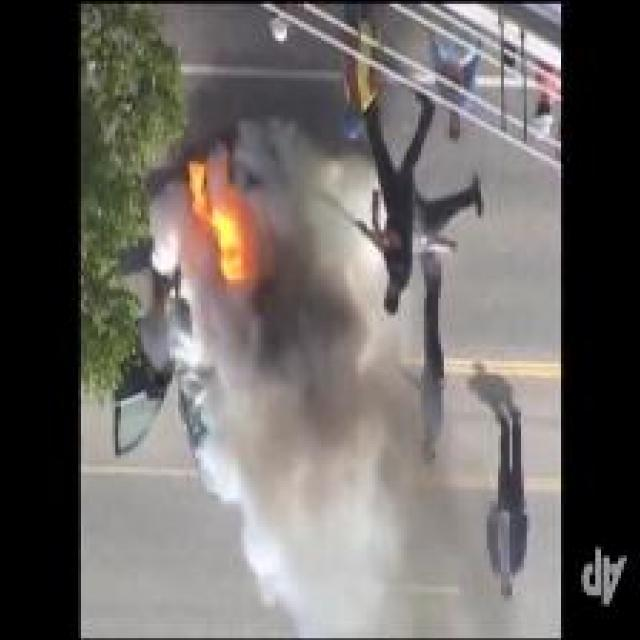Fire: (187, 160, 247, 286)
